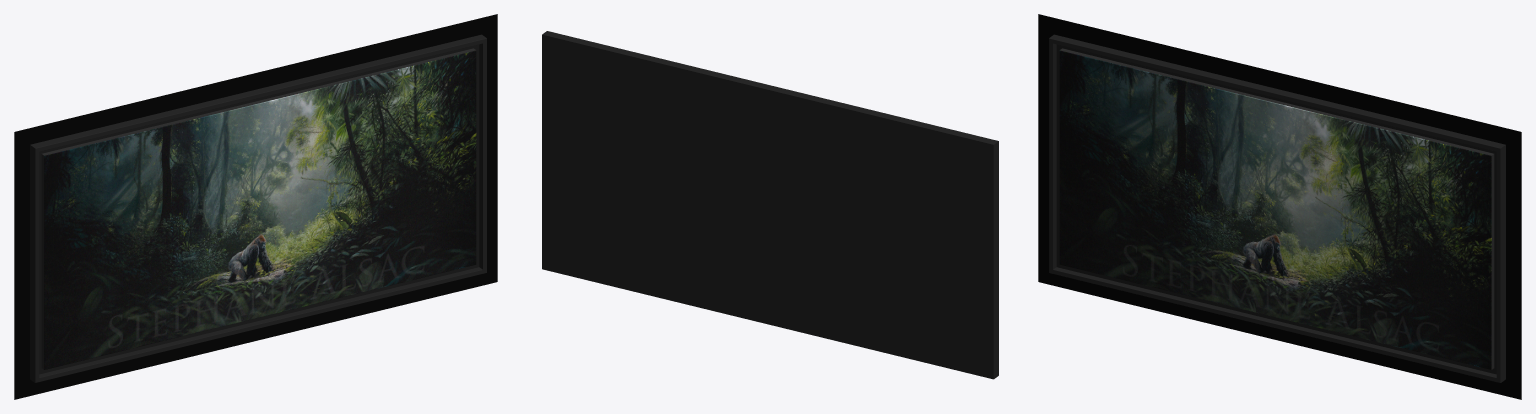
The model's file is tableau-gorille-jungle-geant-fbf6a761.glb.
3 views of the same model, side by side, from view 1: azimuth 30°, elevation 25°; view 2: azimuth 150°, elevation 25°; view 3: azimuth 330°, elevation 25° (orthographic).
Visible parts, largest first — view 1: Painting; view 2: Painting; view 3: Painting.
Part boxes in pixels (box(x1,y1,x2,y2)): Painting: box(14, 14, 497, 399); Painting: box(542, 31, 998, 379); Painting: box(1038, 14, 1521, 399).
Bounding box in the file's own units: 2.13 × 1.13 × 0.04.
Materials: 5 (3 with a texture image).
